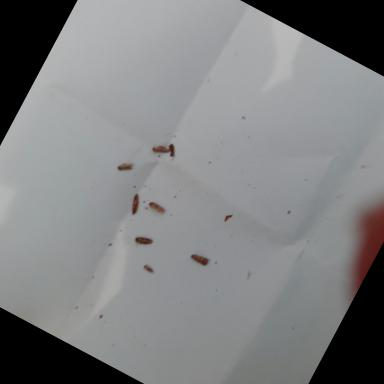pbw: (125, 192, 145, 216), (189, 250, 209, 266), (116, 157, 134, 174), (134, 232, 152, 249), (150, 141, 168, 156), (163, 142, 178, 158), (148, 200, 166, 213), (142, 264, 154, 273)
